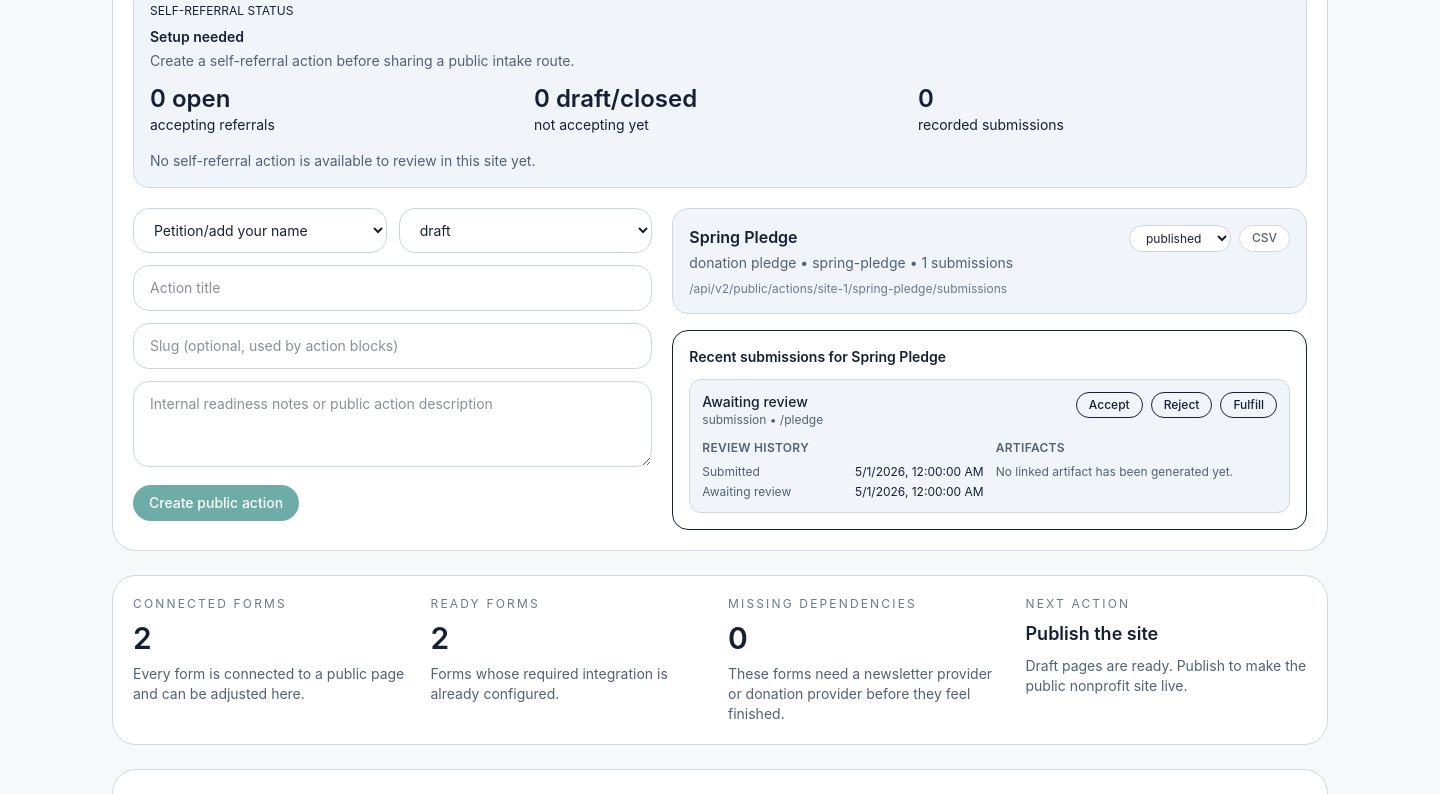
WebsiteFormsPage › accepts pledge submissions from the forms workspace review panel
(page scrolled)
expect the heading "Recent submissions for Spring Pledge" is shown: met, box left=689, top=348, right=946, bottom=365
expect the 1st text "Awaiting review" is shown: met, box left=702, top=392, right=823, bottom=412
Click the button "Accept": [1109, 405] box left=1076, top=392, right=1143, bottom=418
(page scrolled)
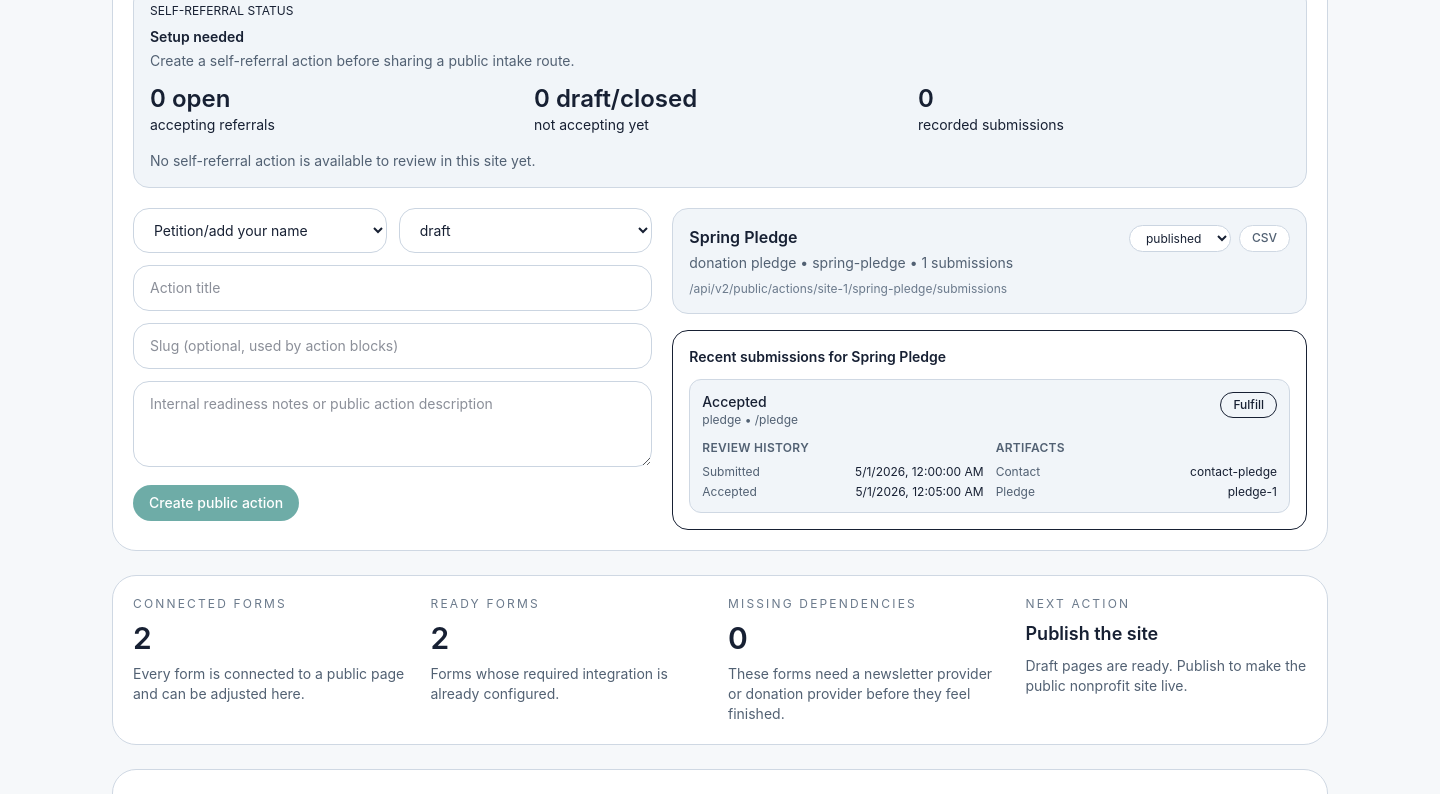
expect the 1st text "Accepted" is shown: met, box left=702, top=393, right=767, bottom=410
expect the text "pledge-1" is shown: met, box left=1228, top=484, right=1277, bottom=500
expect the button "Reject" is gone: met
